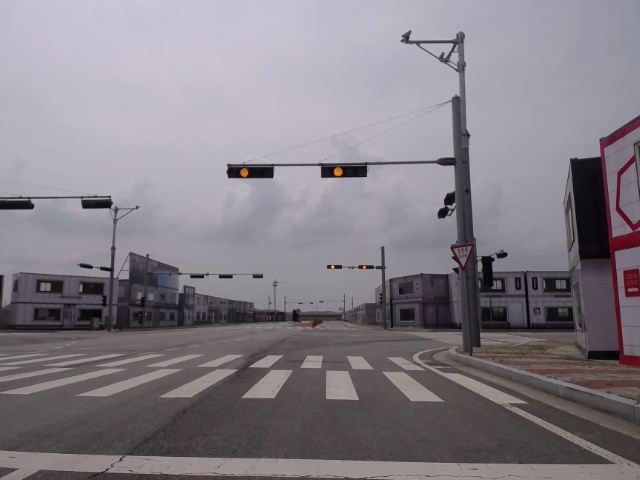orange_4: (226, 163, 276, 179), (319, 163, 369, 179), (325, 263, 343, 271), (357, 263, 375, 271)
